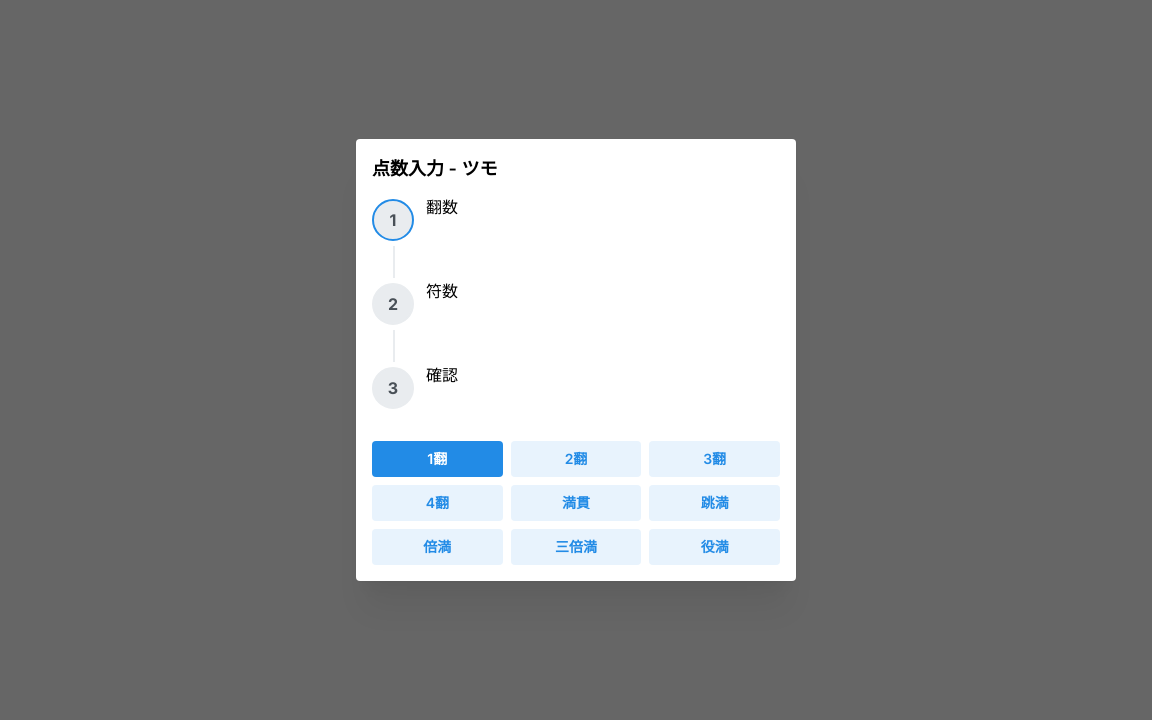
Test: ScoreInputForm › handles different han values
This screenshot has width=1152, height=720.
Expected: the button "1翻" is shown, [427,450,447,467]
Expected: the button "満貫" is shown, [562,494,590,511]
// 翻数ボタンをクリックして、符数ステップに進むことを確認
Click the button "3翻".
click(715, 459)  # box [649,441,780,477]
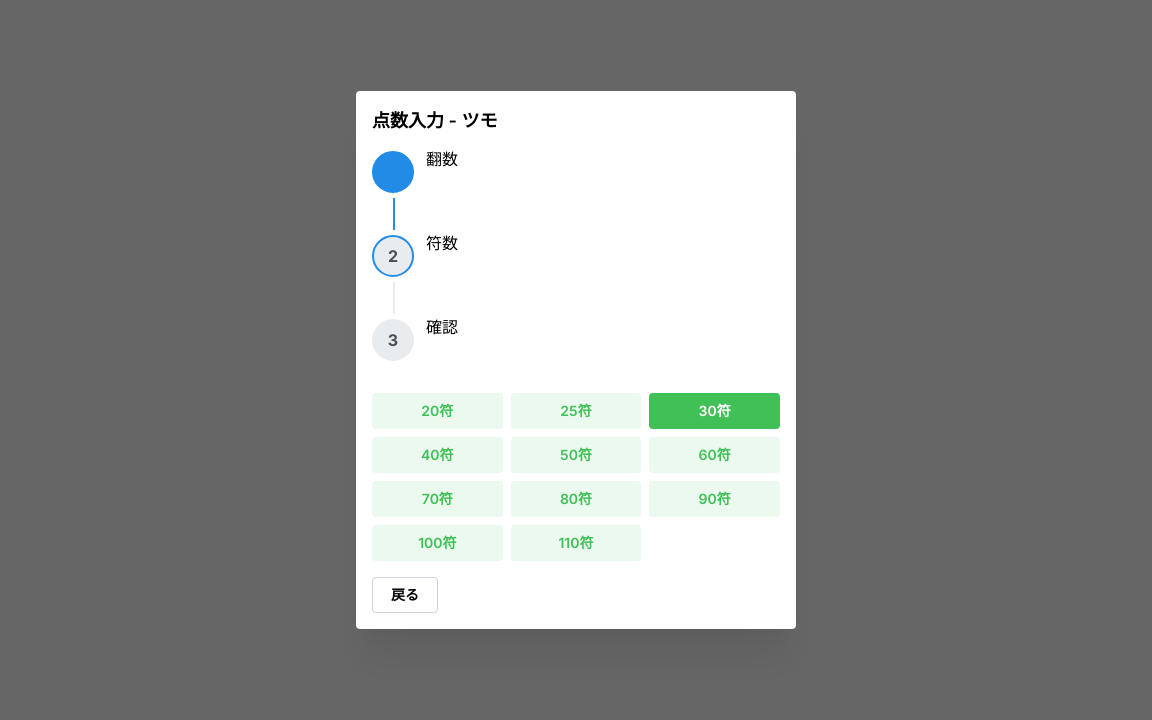
Result: the button "30符" is shown at [699,402,731,419]
// 戻ってから満貫を選択
Click the button "戻る".
click(405, 595)  # box [372,577,438,613]
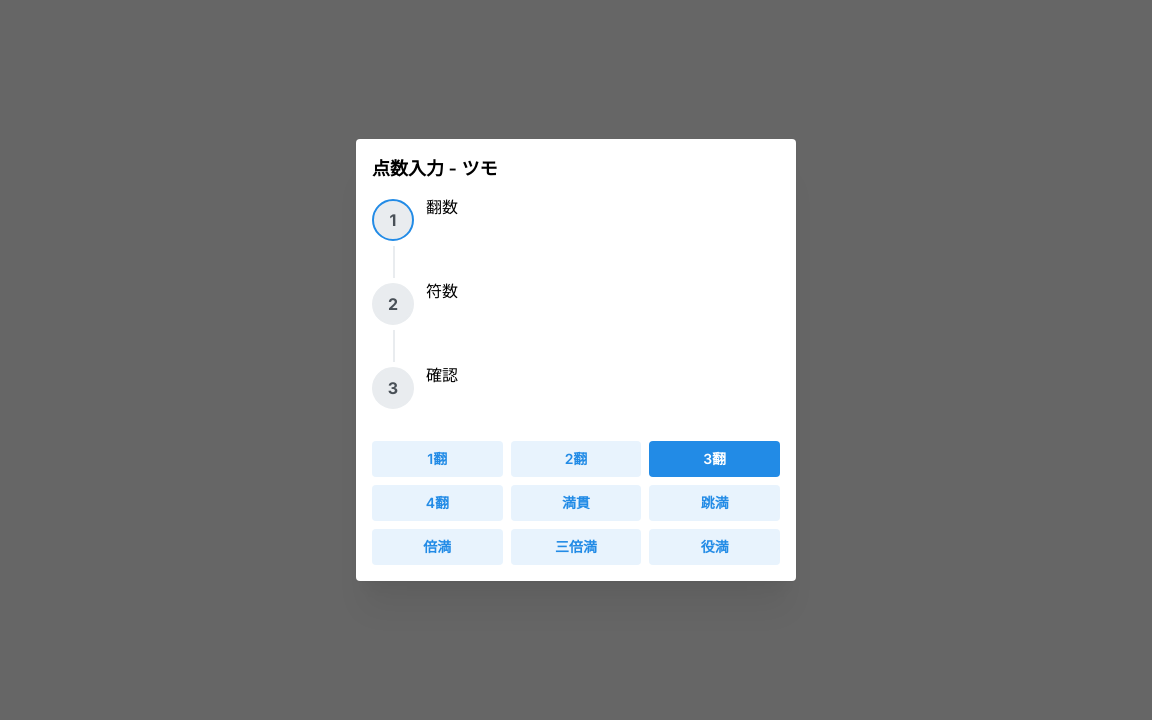
Click the button "満貫".
click(576, 503)  # box [511,485,641,521]
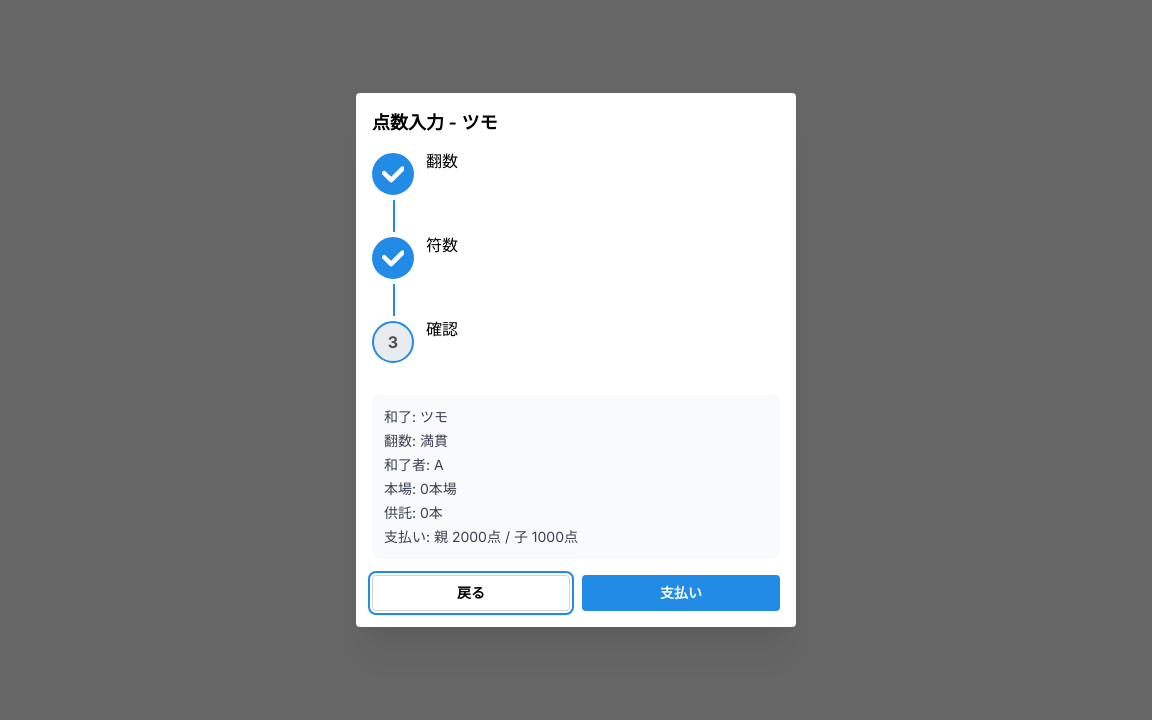
Result: the button "支払い" is shown at [660,584,702,601]
